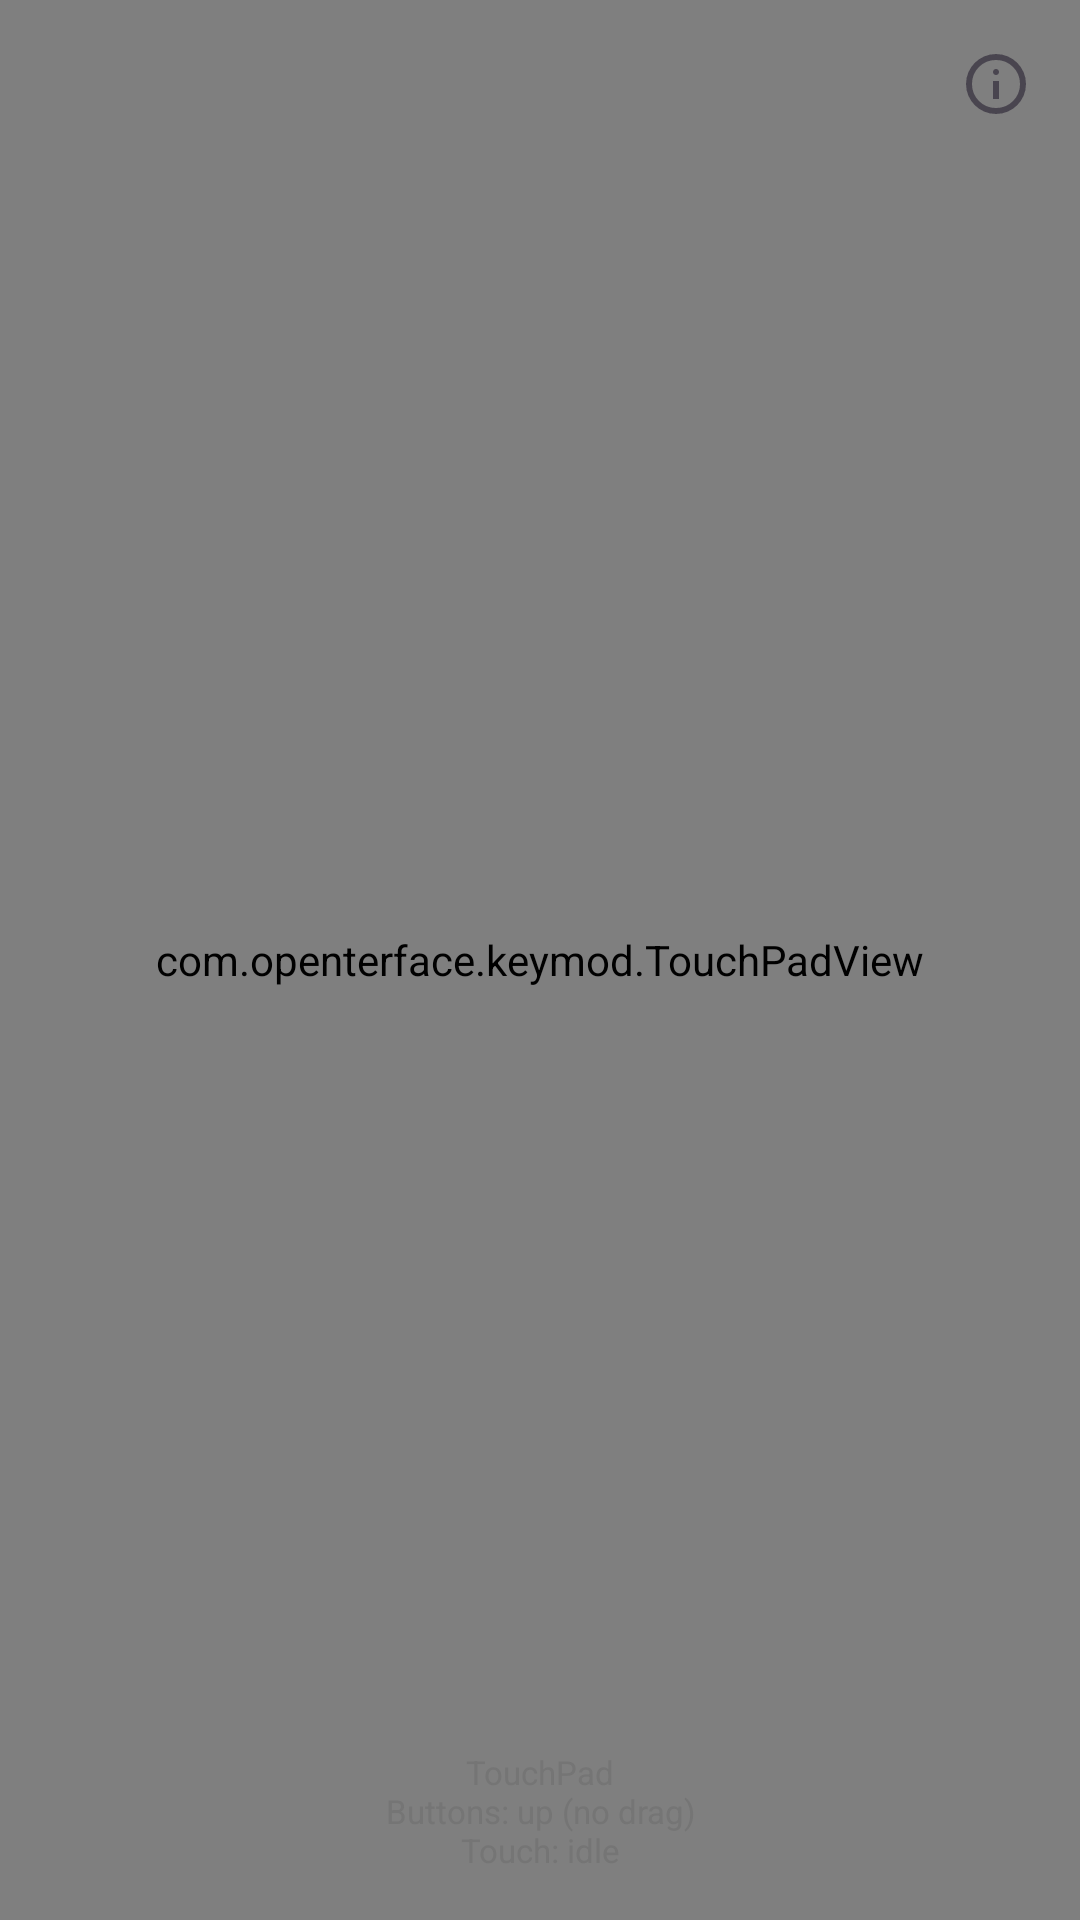

Icon click points for this 1080 x 1920 phone screenshot, format [x,y]:
Show touchpad gesture help: [996,84]
